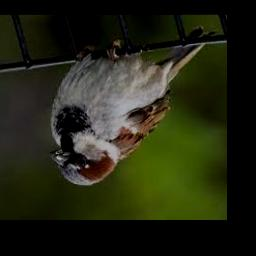Sparrow: (50, 26, 215, 185)
